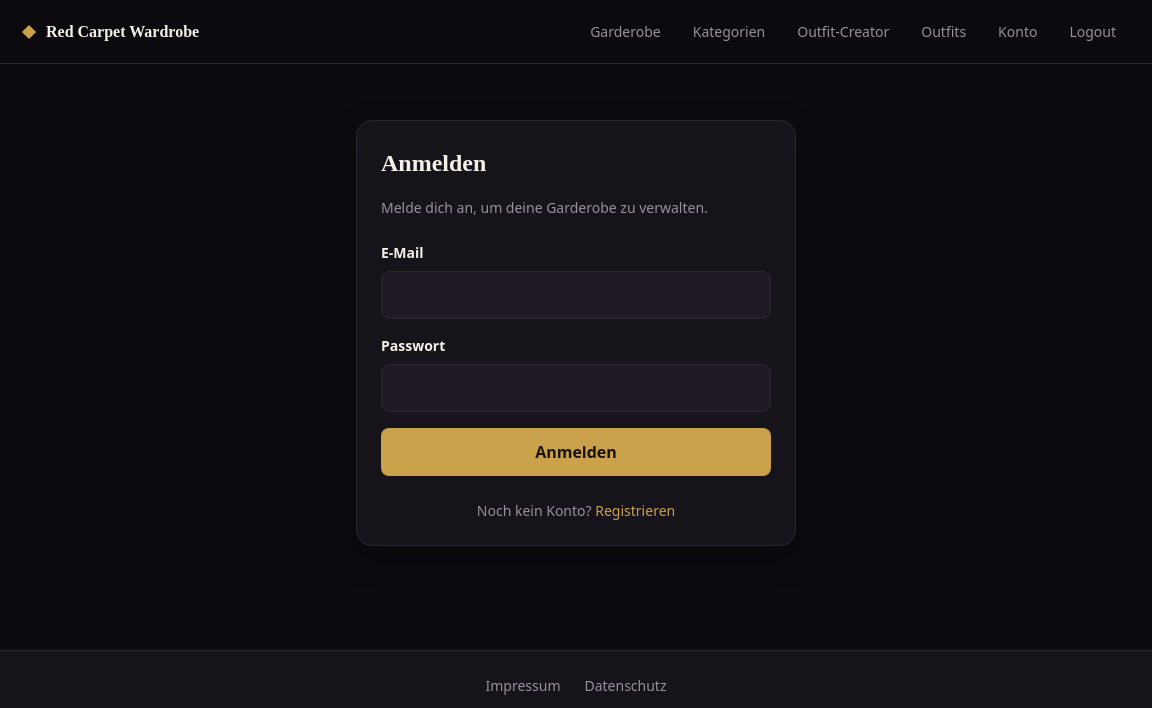
it: LoginPage › zeigt bei falschen Zugangsdaten eine klare Fehlermeldung
This screenshot has width=1152, height=708.
Type "anna@example.com" into the field labelled "E-Mail". click: (576, 295)
box: [381,271,771,319]
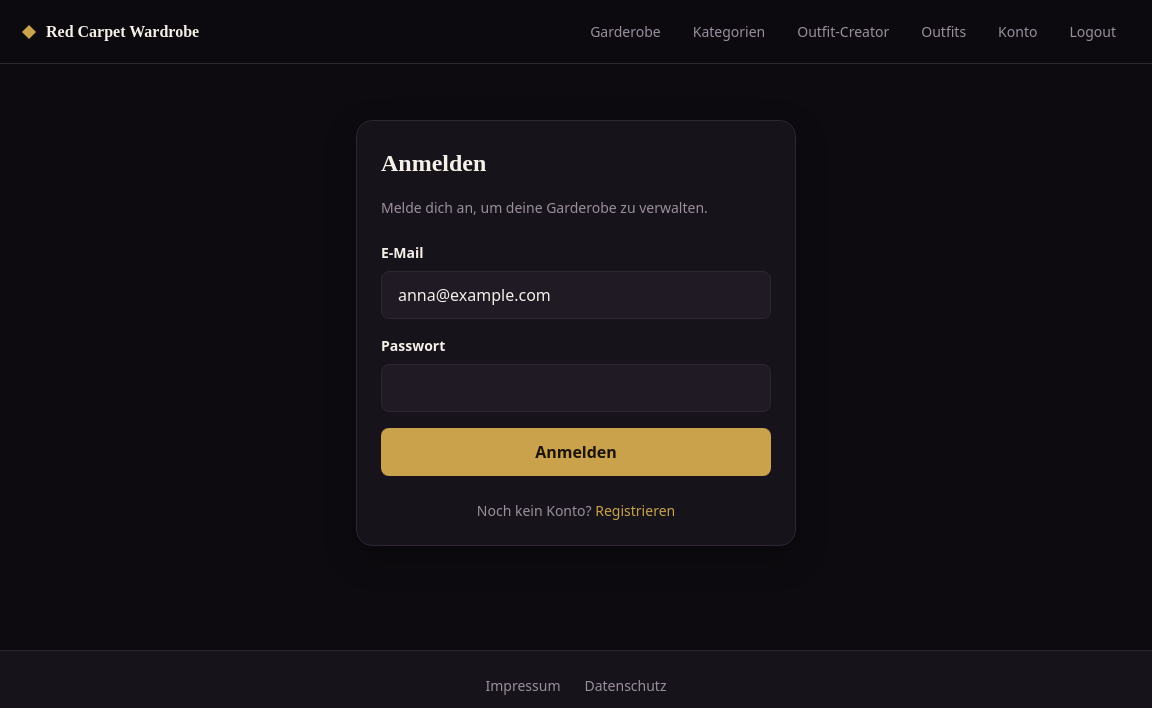
Type "falsch123" into the password field labelled "Passwort". click: (576, 388)
box: [381,364,771,412]
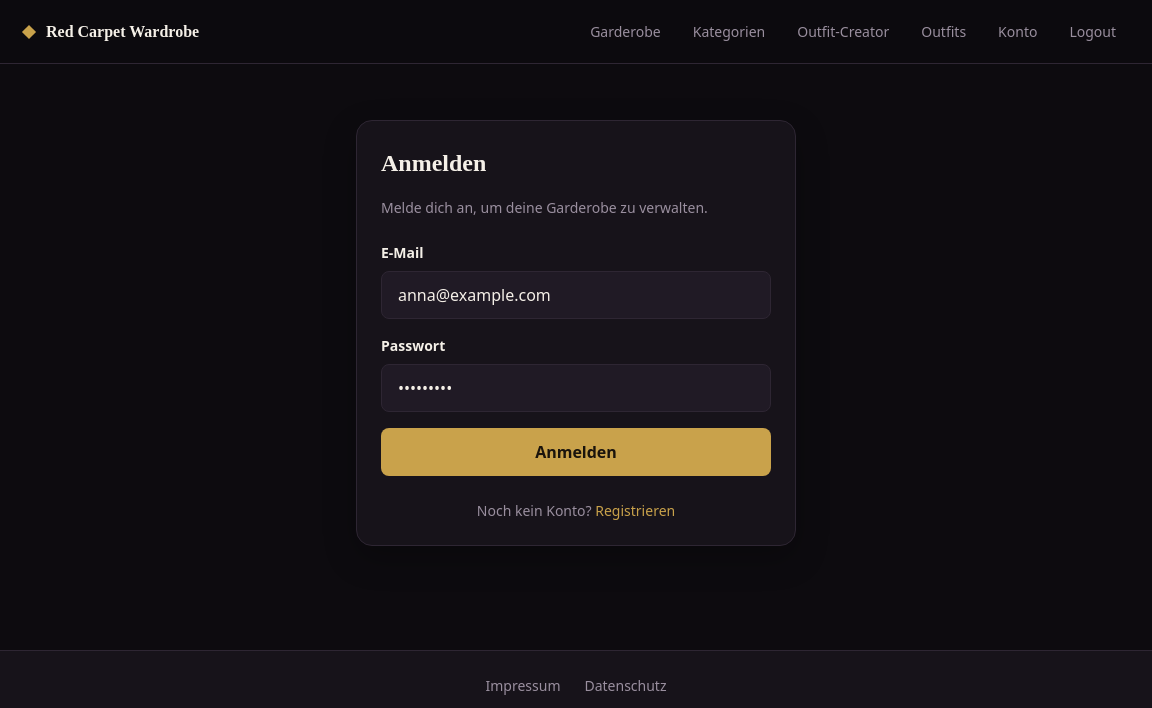
Click the button "Anmelden". click: (576, 452)
box: [381,428,771,476]
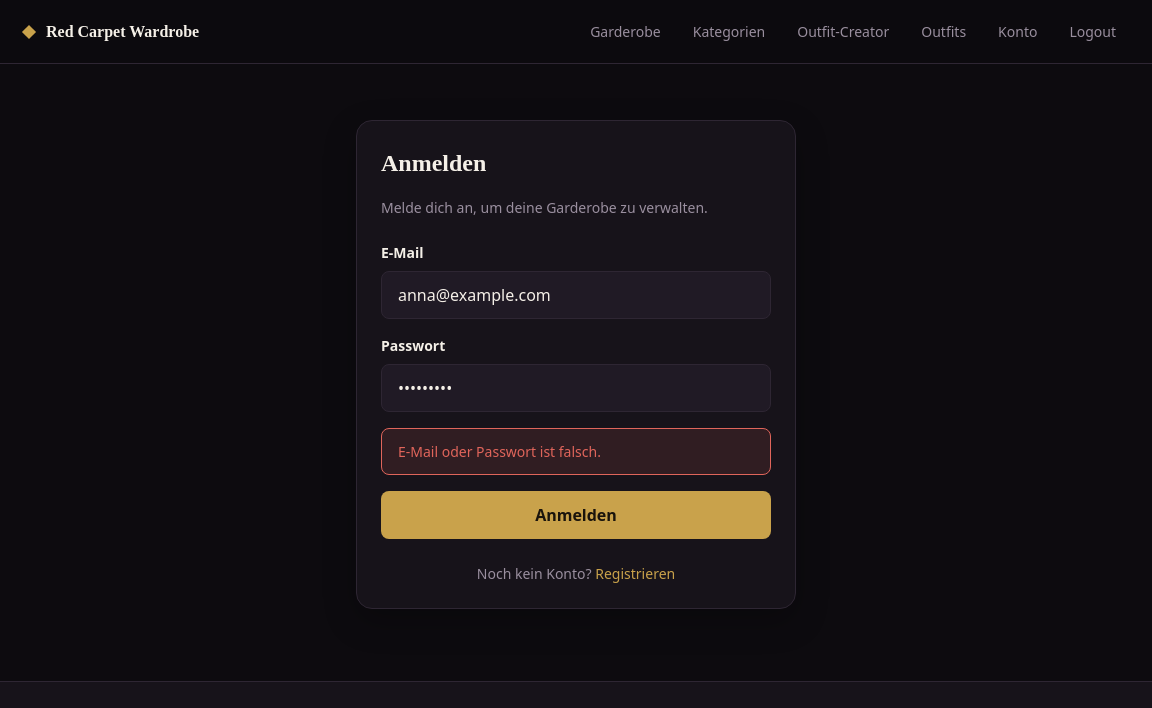
Check: the message shows "E-Mail oder Passwort ist falsch", box [398,442,601,461]
